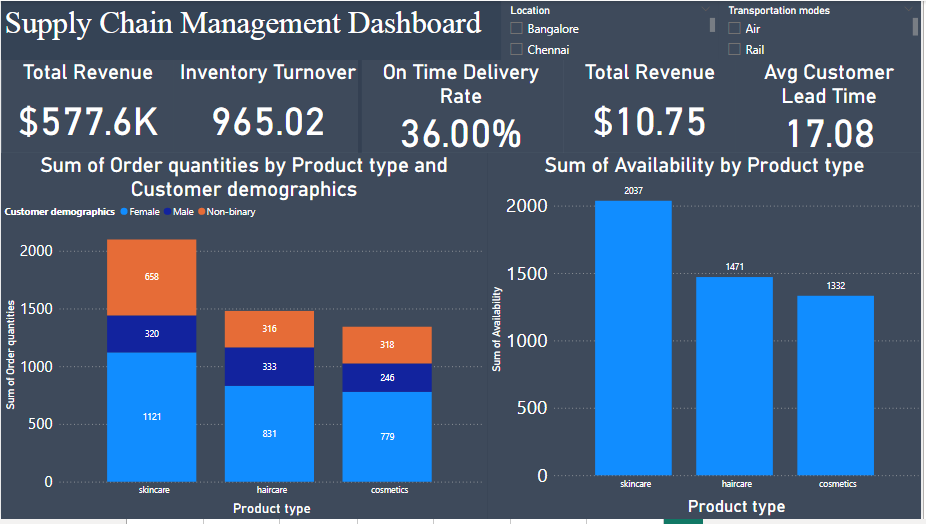

What the dashboard file says about the page in this screenshot:
{"tool":"powerbi","page":{"name":" Page 3","canvas":[1280,720],"ordinal":2},"visuals":[{"type":"textbox","box":[0,0,695,82],"z":0},{"type":"card","title":"Total Revenue","fields":{"Values":["supply_chain_data.Total Revenue"]},"box":[1.4,82,239.1,129.3],"z":1000},{"type":"card","title":"Inventory Turnover","fields":{"Values":["supply_chain_data.Stock Turnover Rate"]},"box":[240.5,82,261.3,129.3],"z":2000},{"type":"card","title":"On Time Delivery Rate ","fields":{"Values":["supply_chain_data.Defect Rate"]},"box":[496.2,82,286.3,129.3],"z":3000},{"type":"card","title":"Total Revenue","fields":{"Values":["supply_chain_data.Cost per order"]},"box":[782.5,82,239.1,129.3],"z":4000},{"type":"card","title":"Avg Customer Lead Time","fields":{"Values":["Avg(supply_chain_data.Lead time)"]},"box":[1021.6,82,258.5,129.3],"z":5000},{"type":"slicer","fields":{"Values":["supply_chain_data.Location"]},"box":[695,0,303,82],"z":6000},{"type":"columnChart","fields":{"Category":["supply_chain_data.Product type"],"Y":["Sum(supply_chain_data.Order quantities)"],"Series":["supply_chain_data.Customer demographics"]},"box":[0,211.3,675.5,508.7],"z":7000},{"type":"columnChart","fields":{"Category":["supply_chain_data.Product type"],"Y":["Sum(supply_chain_data.Availability)"]},"box":[675.5,211.3,604.6,508.7],"z":8000},{"type":"slicer","fields":{"Values":["supply_chain_data.Transportation modes"]},"box":[997.8,0,282.2,82],"z":9000}]}

Visuals, with their boxes in screenshot pixels (x1, y1, x2, y2), scaled from the page's 1280x720 canvas onto the 926x524 screenshot:
textbox: BBox(0, 0, 503, 60)
"Total Revenue" card: BBox(1, 60, 174, 154)
"Inventory Turnover" card: BBox(174, 60, 363, 154)
"On Time Delivery Rate " card: BBox(359, 60, 566, 154)
"Total Revenue" card: BBox(566, 60, 739, 154)
"Avg Customer Lead Time" card: BBox(739, 60, 925, 154)
slicer - supply_chain_data.Location: BBox(503, 0, 722, 60)
columnChart - supply_chain_data.Product type x Sum(supply_chain_data.Order quantities): BBox(0, 154, 489, 523)
columnChart - supply_chain_data.Product type x Sum(supply_chain_data.Availability): BBox(489, 154, 925, 523)
slicer - supply_chain_data.Transportation modes: BBox(722, 0, 925, 60)
